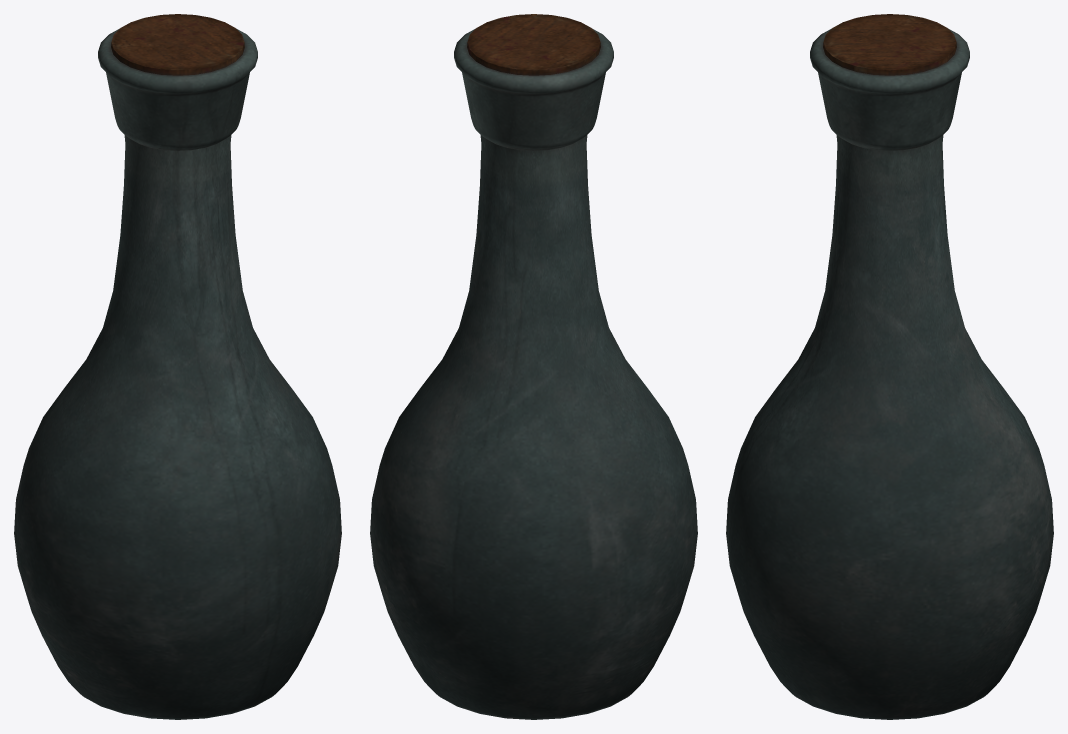
Rendered from Bottles_6.fbx.
3 renders of one model, left to right at view 1: azimuth 30°, elevation 25°; view 2: azimuth 150°, elevation 25°; view 3: azimuth 270°, elevation 25°, orthographic.
Parts seen in each view (by area): view 1: bottle_6; view 2: bottle_6; view 3: bottle_6.
Boxes of the visible parts, x1,y1,x2,y2 form: bottle_6: [14, 14, 341, 719]; bottle_6: [370, 14, 697, 719]; bottle_6: [726, 14, 1053, 719].
Size of the model in its own units: 10.06 by 21.4 by 10.06.
